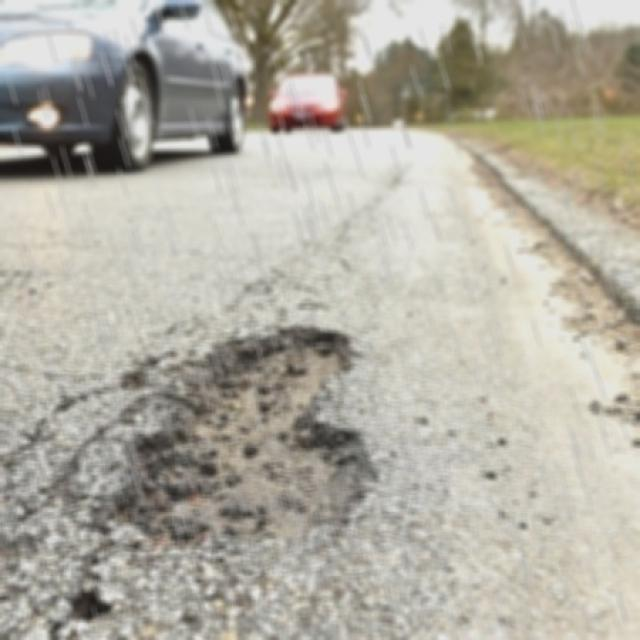road-pothole: (92, 320, 375, 566)
